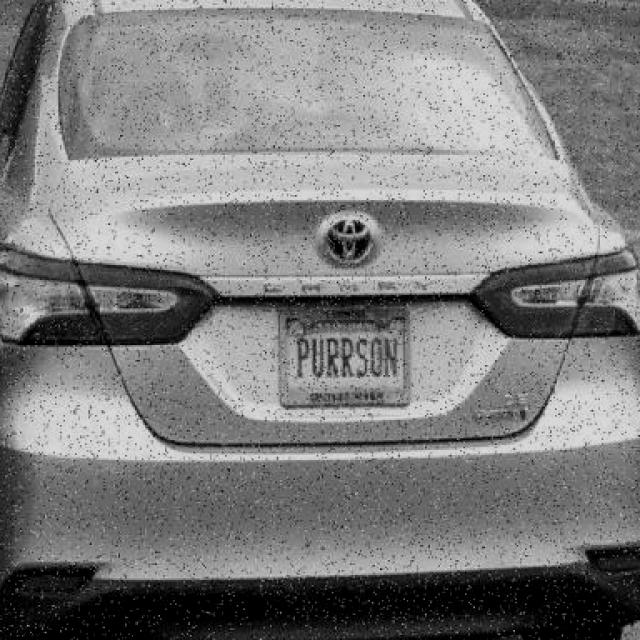licenseplate: (277, 308, 411, 407)
